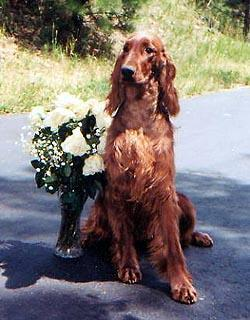Irish_setter: (76, 30, 214, 305)
